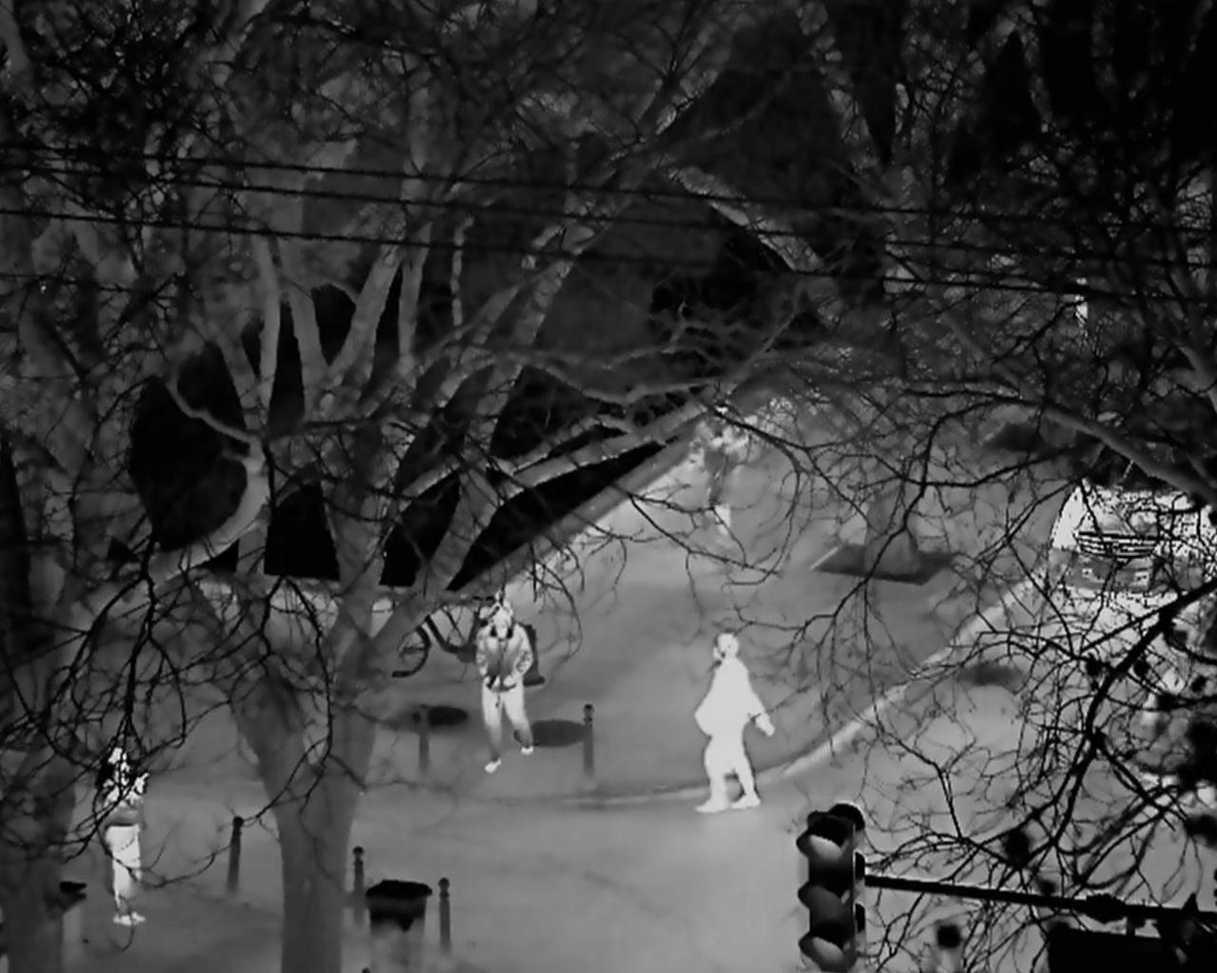person: (689, 633, 775, 811), (474, 600, 536, 773), (99, 747, 148, 926), (707, 419, 740, 545)
